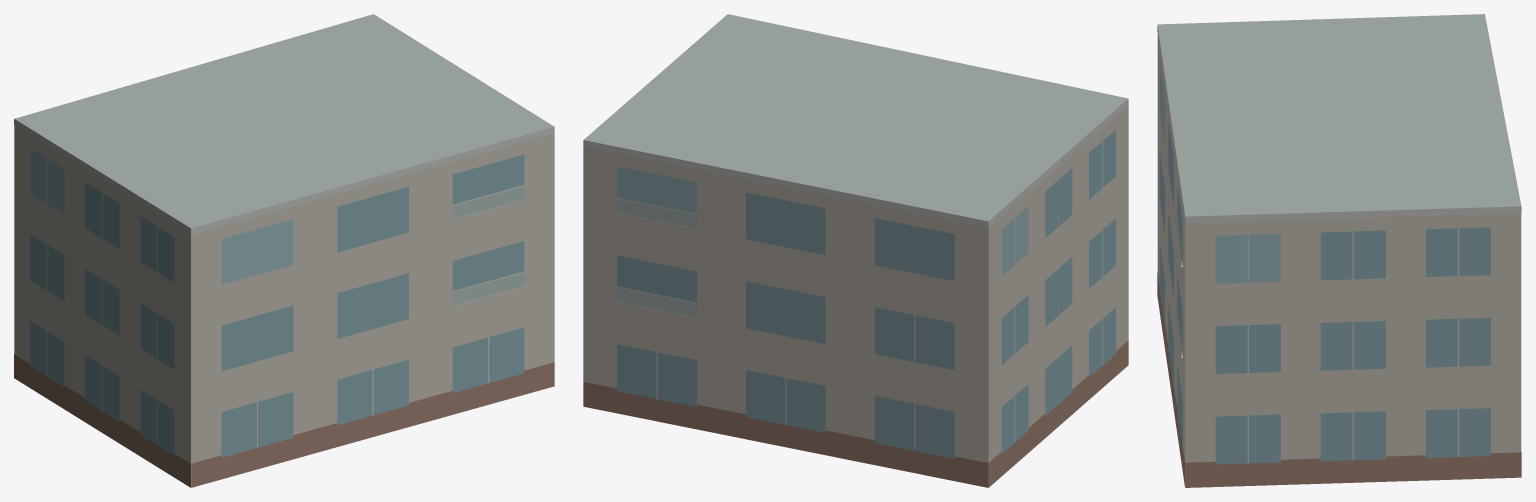
Rendered from survey-upis-32737192.glb.
3 views of the same model, side by side, from view 1: azimuth 30°, elevation 25°; view 2: azimuth 150°, elevation 25°; view 3: azimuth 270°, elevation 25° (orthographic). The views are drawn at different scales.
Parts seen in each view (by area): view 1: survey-upis-32737192.tmp; view 2: survey-upis-32737192.tmp; view 3: survey-upis-32737192.tmp.
Boxes of the visible parts, left/top/right/bottom form: survey-upis-32737192.tmp: left=14, top=14, right=554, bottom=487; survey-upis-32737192.tmp: left=583, top=14, right=1128, bottom=487; survey-upis-32737192.tmp: left=1157, top=14, right=1521, bottom=487.
Size of the model in its own units: 15.87 by 9.9 by 12.05.
